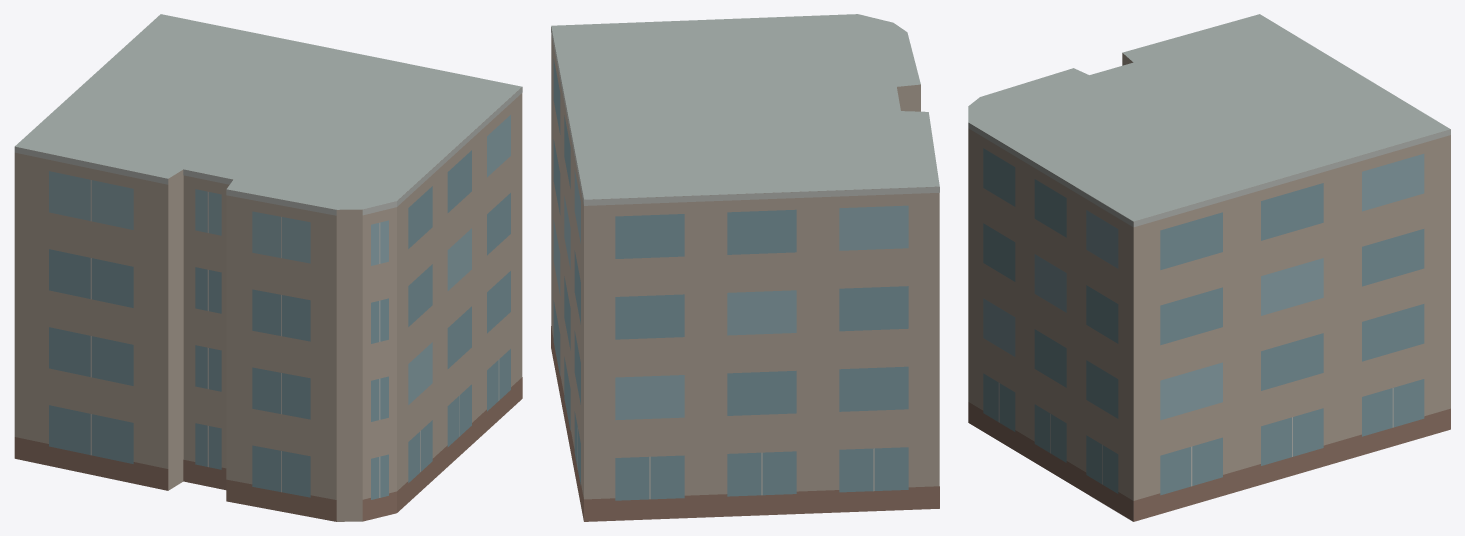
The model's file is survey-upis-32807217.glb.
3 renders of one model, left to right at view 1: azimuth 30°, elevation 25°; view 2: azimuth 150°, elevation 25°; view 3: azimuth 270°, elevation 25°, orthographic. The views are drawn at different scales.
Parts seen in each view (by area): view 1: survey-upis-32807217.tmp; view 2: survey-upis-32807217.tmp; view 3: survey-upis-32807217.tmp.
Part boxes in pixels (x1=…): survey-upis-32807217.tmp: x1=14, y1=14, x2=522, y2=521; survey-upis-32807217.tmp: x1=551, y1=14, x2=939, y2=521; survey-upis-32807217.tmp: x1=968, y1=14, x2=1450, y2=521.
Bounding box in the file's own units: 18.84 × 12.7 × 18.51.
